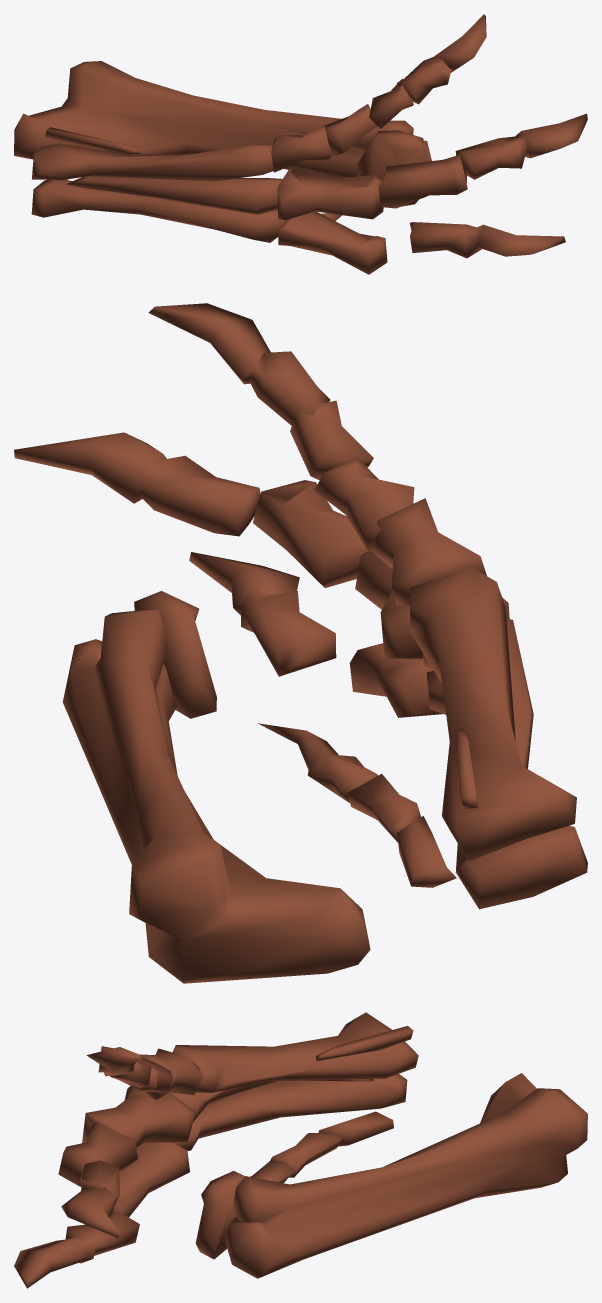
The model's file is t-rex_bone_2.fbx.
3 views of the same model, one above another, from view 1: azimuth 30°, elevation 25°; view 2: azimuth 150°, elevation 25°; view 3: azimuth 270°, elevation 25° (orthographic). The views are drawn at different scales.
Visible parts, largest first — view 1: t-rex_bone_2; view 2: t-rex_bone_2; view 3: t-rex_bone_2.
Part boxes in pixels (left/top/right/bottom): t-rex_bone_2: left=14, top=14, right=587, bottom=274; t-rex_bone_2: left=14, top=303, right=587, bottom=983; t-rex_bone_2: left=14, top=1012, right=587, bottom=1288.
Bounding box in the file's own units: 1.65 × 0.771 × 1.66.
